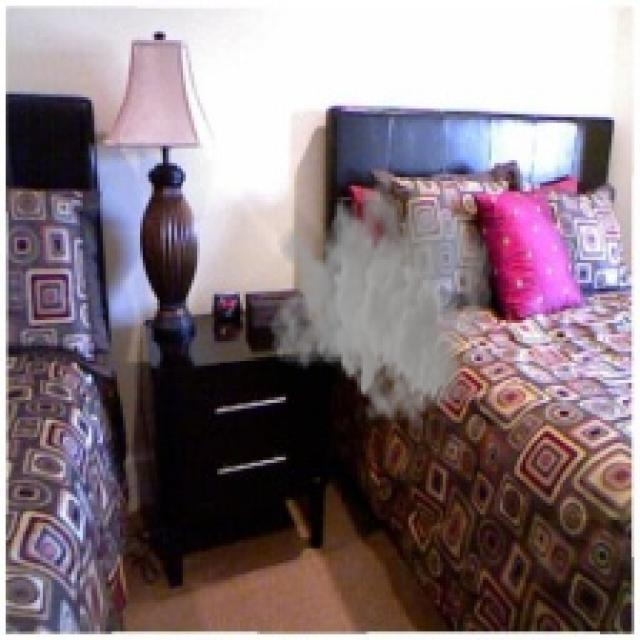smoke: (269, 157, 494, 434)
